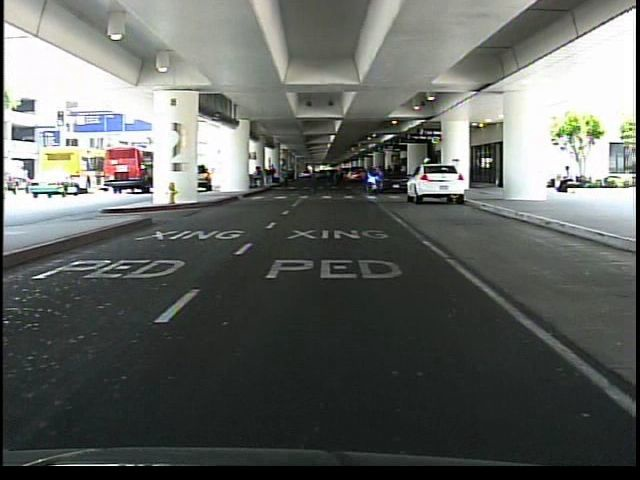person: (549, 160, 576, 197), (419, 154, 436, 200)
